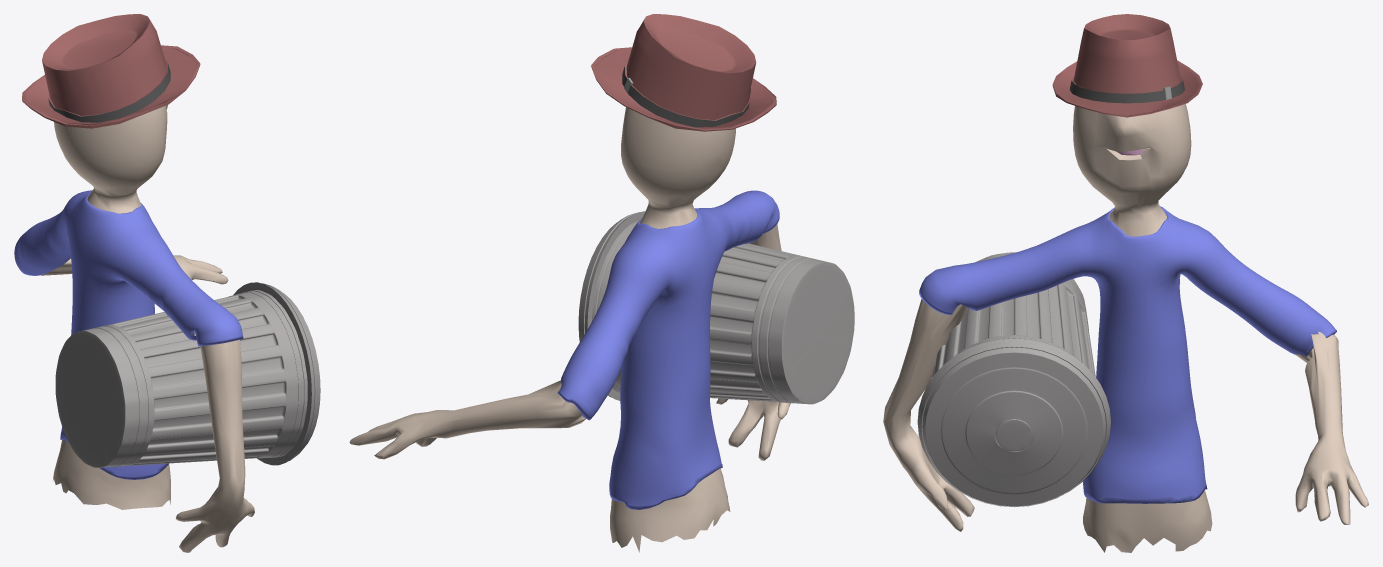
The model's file is Inimigo.fbx.
The picture shows the model from 3 angles, left to right: view 1: azimuth 30°, elevation 25°; view 2: azimuth 150°, elevation 25°; view 3: azimuth 270°, elevation 25°; orthographic projection. The views are drawn at different scales.
Parts seen in each view (by area): view 1: corpo, LatadeLixo1, chapeu; view 2: corpo, LatadeLixo1, chapeu; view 3: corpo, LatadeLixo1, chapeu.
Boxes of the visible parts, x1,y1,x2,y2 form: corpo: [14, 105, 254, 552]; LatadeLixo1: [55, 282, 320, 467]; chapeu: [22, 14, 200, 128]; corpo: [349, 107, 790, 552]; LatadeLixo1: [578, 211, 854, 404]; chapeu: [591, 14, 776, 131]; corpo: [883, 104, 1368, 552]; LatadeLixo1: [917, 252, 1110, 507]; chapeu: [1052, 14, 1202, 117].
Size of the model in its own units: 14.64 by 22.95 by 19.86.
